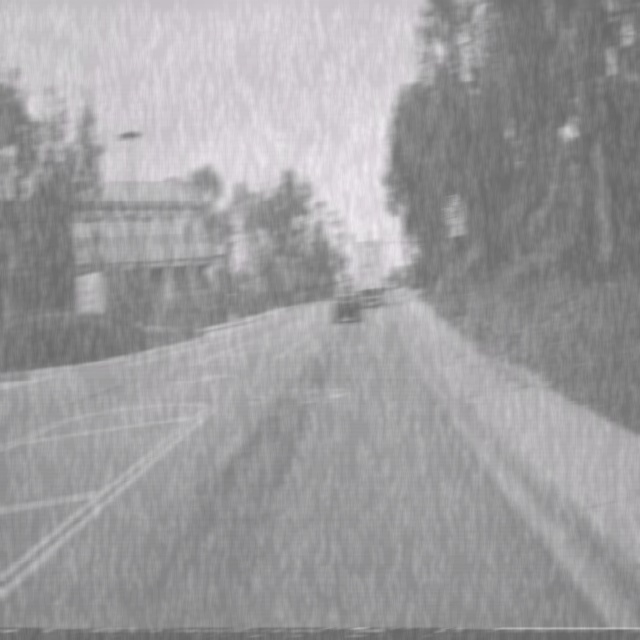school: (446, 192, 465, 228)
